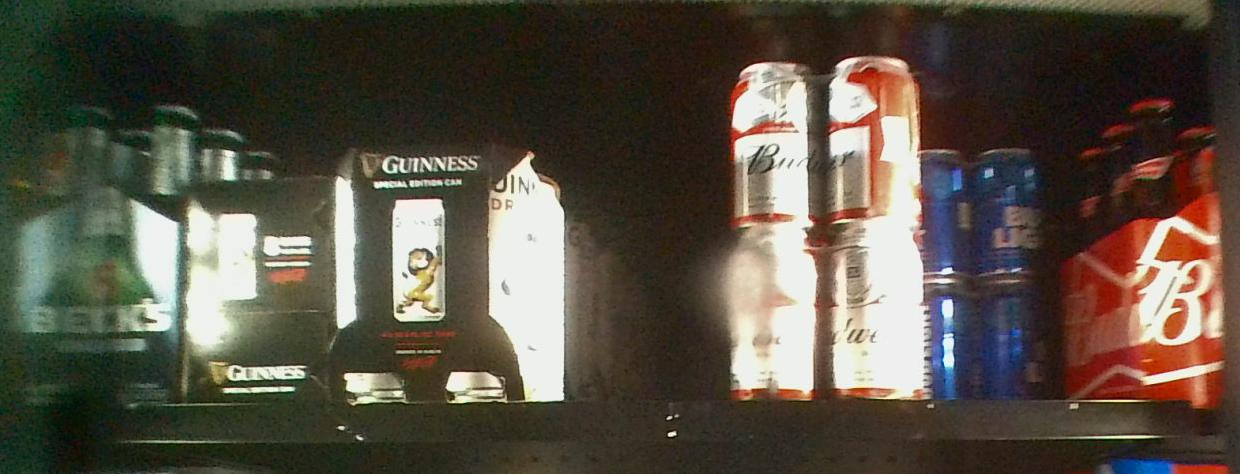bottle: (729, 54, 930, 399), (341, 145, 557, 402), (14, 93, 183, 399), (181, 171, 347, 403), (929, 150, 1051, 400)
